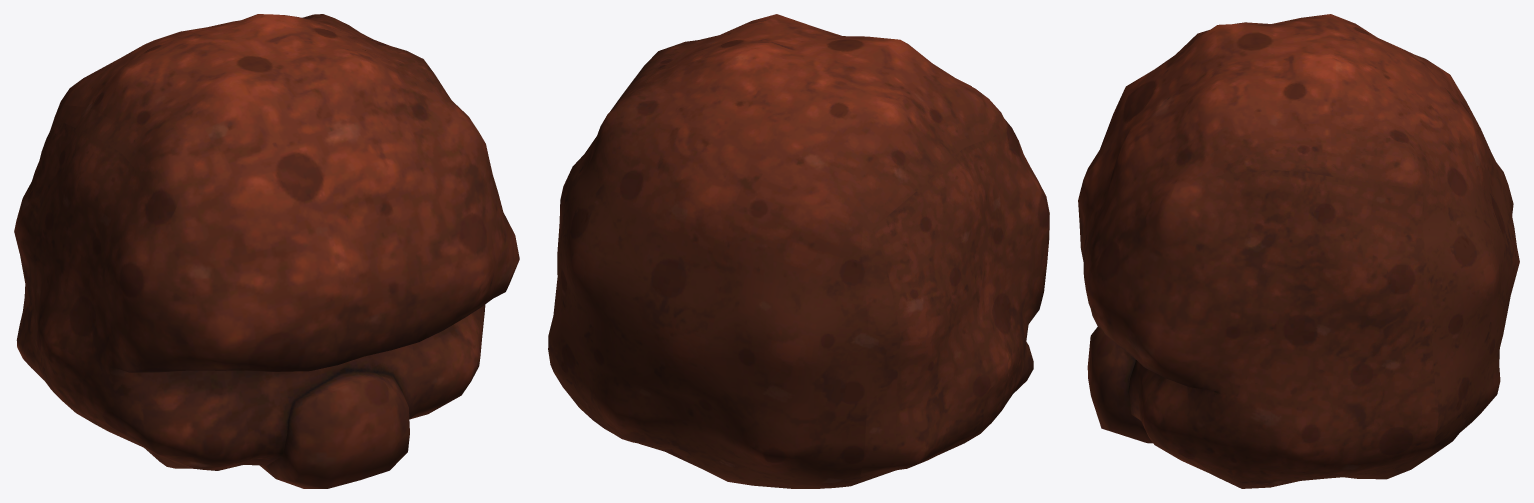
File: FinalePeckishHead.fbx
The picture shows the model from 3 angles, left to right: view 1: azimuth 30°, elevation 25°; view 2: azimuth 150°, elevation 25°; view 3: azimuth 270°, elevation 25°; orthographic projection. The views are drawn at different scales.
Visible parts, largest first — view 1: polySurface82; view 2: polySurface82; view 3: polySurface82.
Boxes of the visible parts, x1,y1,x2,y2 form: polySurface82: [14, 14, 519, 488]; polySurface82: [548, 14, 1049, 488]; polySurface82: [1078, 14, 1519, 488].
Size of the model in its own units: 6.37 by 5.88 by 5.91.
1 material, 1 textured.
